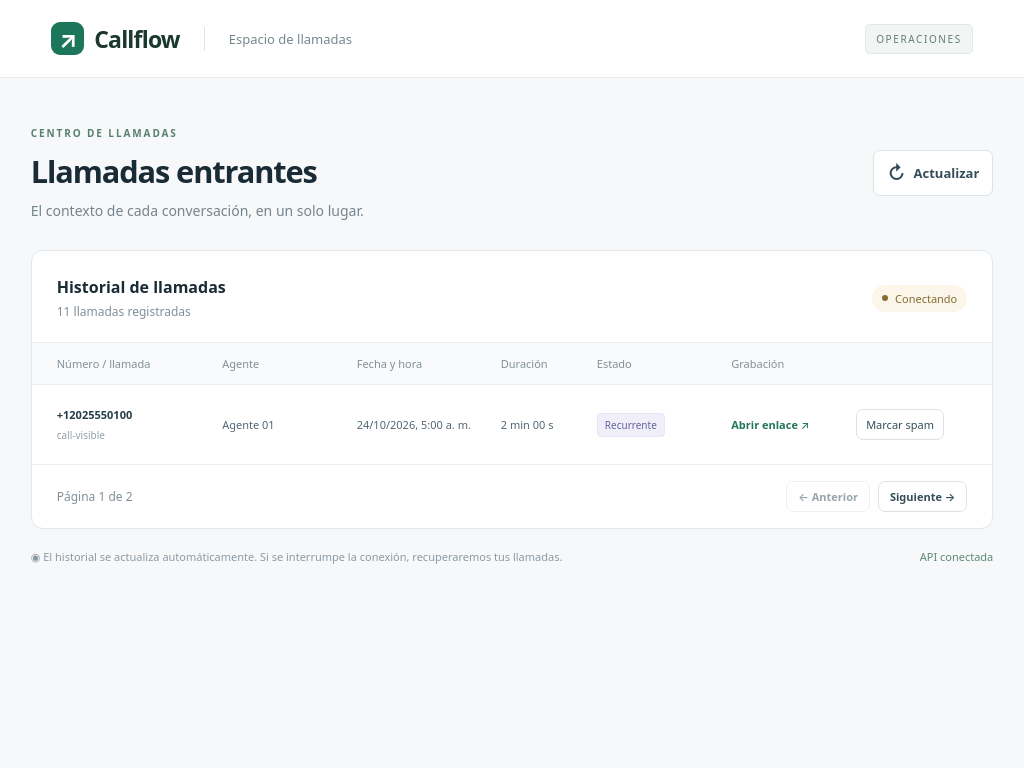
historial de llamadas › pagina mediante REST y cierra la conexión anterior
Expected: the text "+12025550100" is shown, [57, 407, 132, 422]
What coordinates should you click on to do the following:
click the button "Siguiente →"
I would click on:
 (923, 496)
Its box is [878, 481, 967, 512].
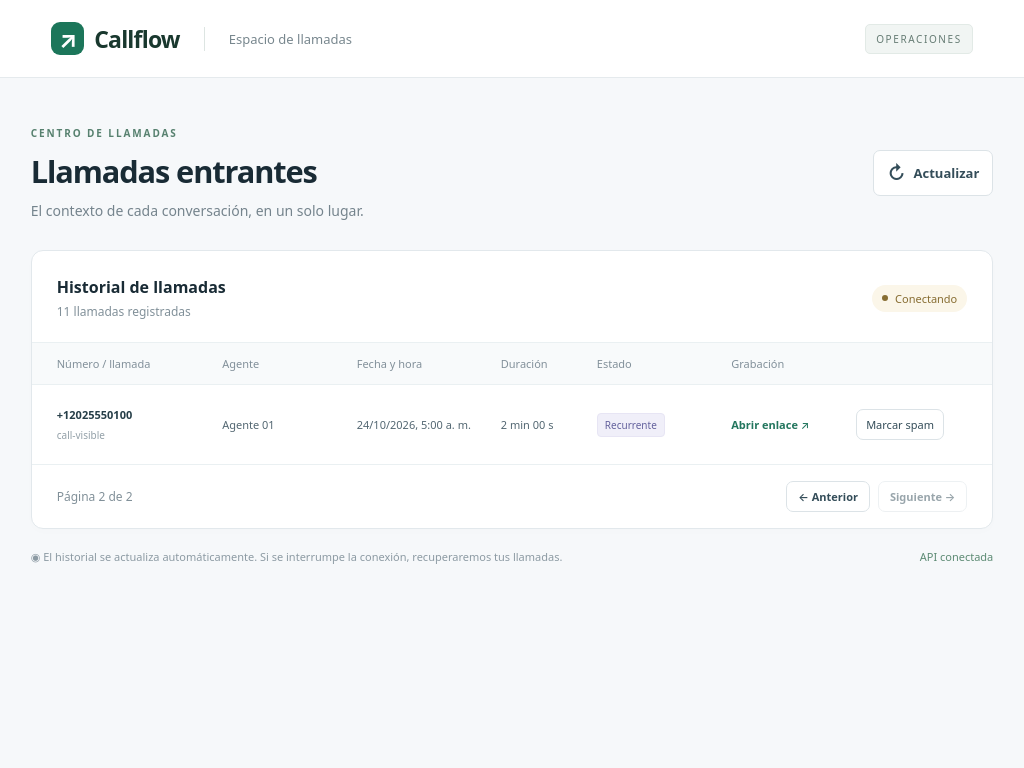
Result: the text "Página 2 de 2" is shown at [57, 488, 133, 505]
